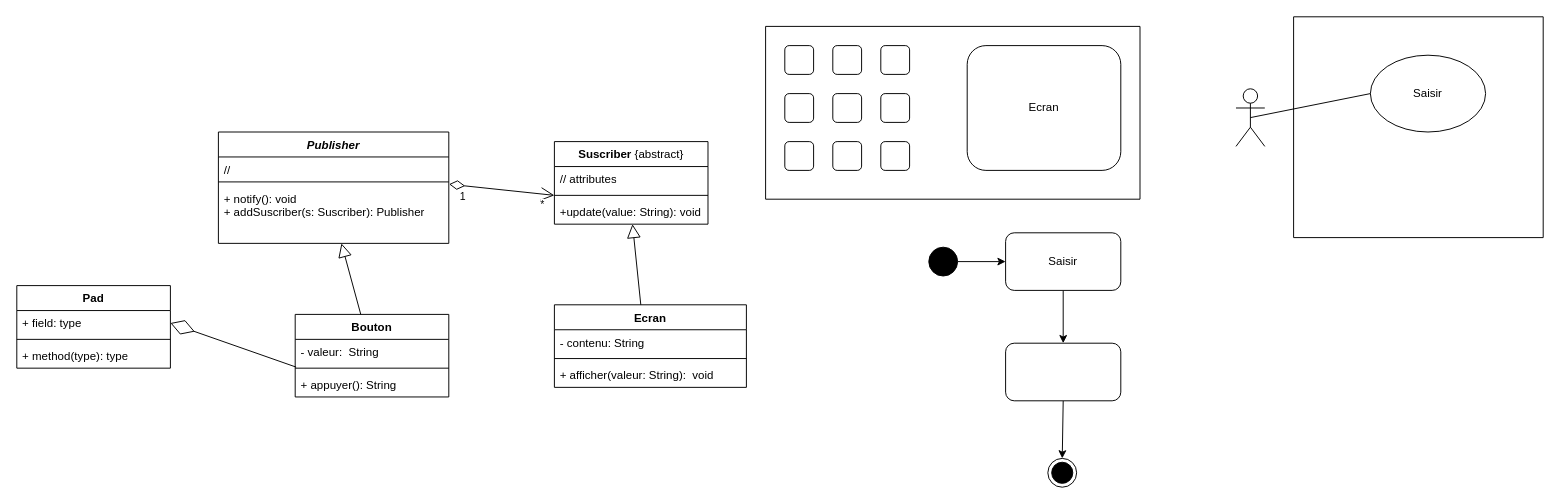
This 1560x504 diagram has some shape labels left out. Each missing label, with the centre of its shape:
"Afficher" belongs at [1063,371].
"User" belongs at [1250,117].
